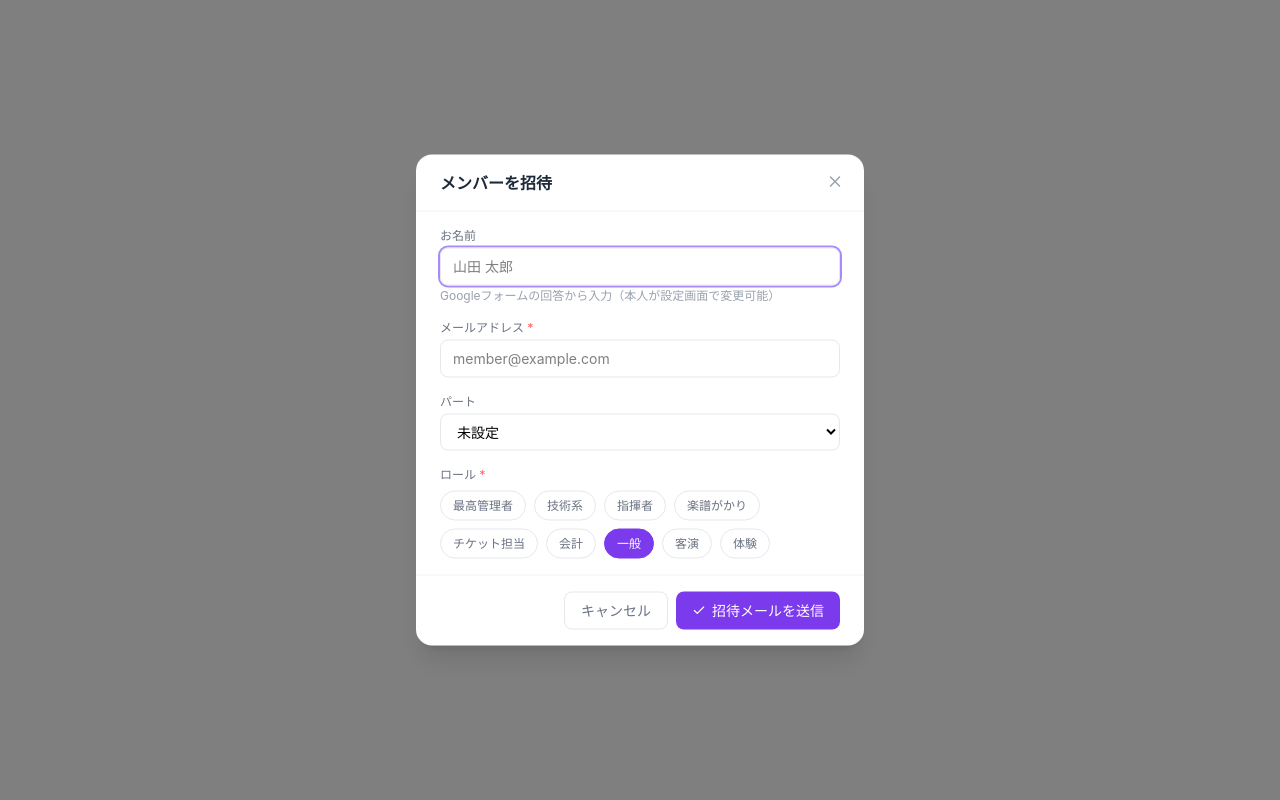
InviteModal › メールアドレスが空: バリデーションエラーを表示する
The image size is (1280, 800).
Click the button "招待メールを送信". click: point(758, 610)
box: [676, 592, 840, 630]
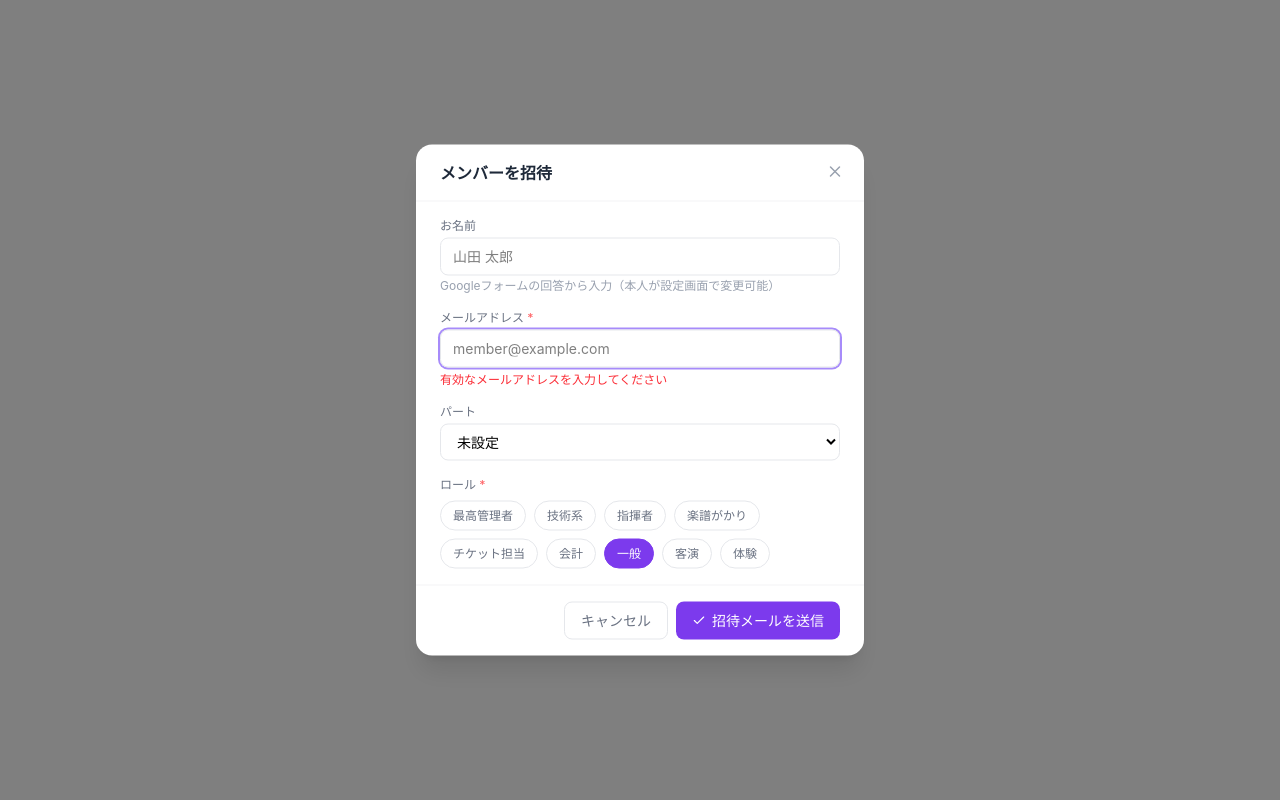
Result: the text "有効なメールアドレスを入力してください" is shown at [440, 372, 667, 386]
